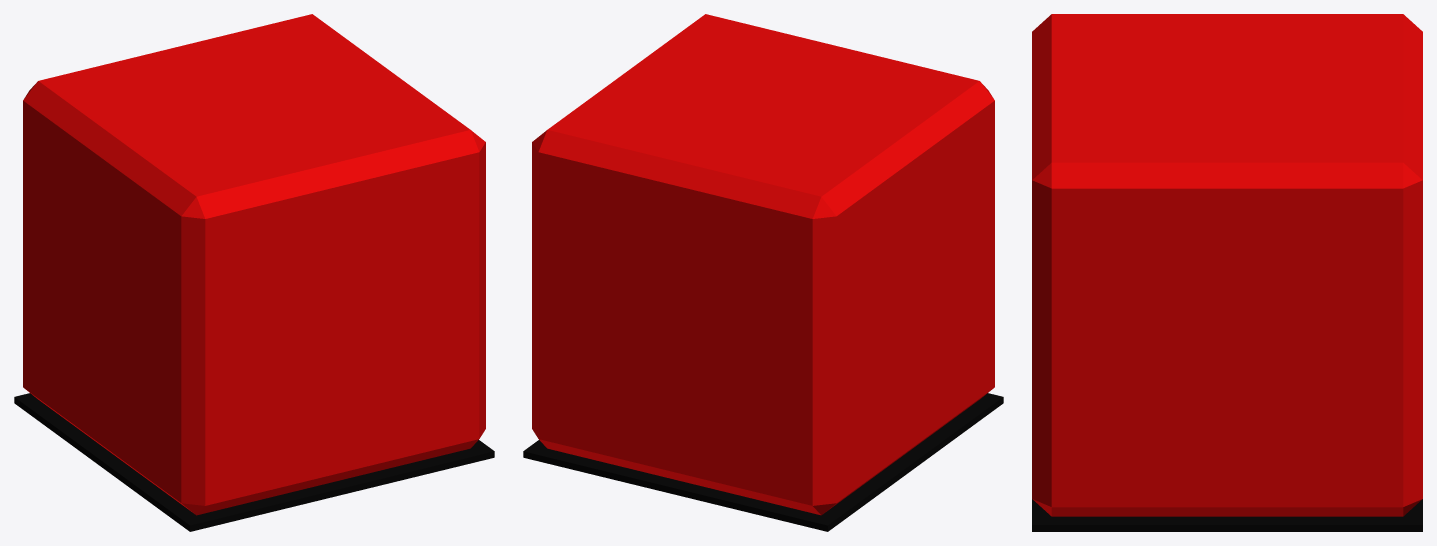
File: Wall.fbx
The picture shows the model from 3 angles, left to right: view 1: azimuth 30°, elevation 25°; view 2: azimuth 150°, elevation 25°; view 3: azimuth 270°, elevation 25°; orthographic projection. The views are drawn at different scales.
Visible parts, largest first — view 1: pCube3; view 2: pCube3; view 3: pCube3.
Part boxes in pixels (<box>): pCube3: <box>14,14,494,531</box>; pCube3: <box>523,14,1003,531</box>; pCube3: <box>1032,14,1422,531</box>.
Bounding box in the file's own units: 1 × 1.02 × 1.
